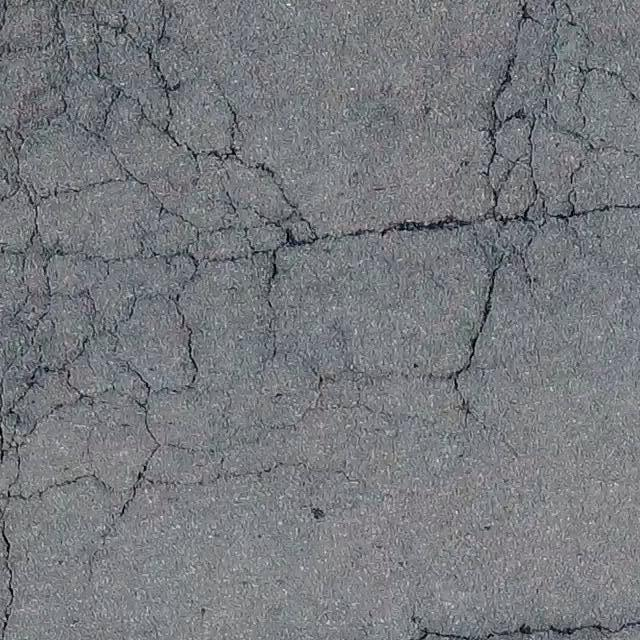GRIETA: (321, 216, 474, 241), (416, 622, 639, 639)
PIEL DE COCODRILO: (0, 0, 415, 639), (445, 0, 639, 459)
